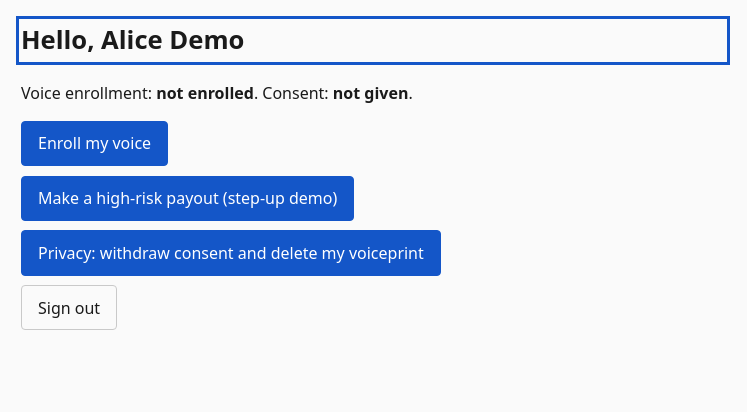
App journey (M4-A1, against in-memory stand-ins) › sends a user with no voiceprint straight to the fallback offer
Click the button "Make a high-risk payout (step-up demo)" at (188, 198), box [21, 176, 354, 221]
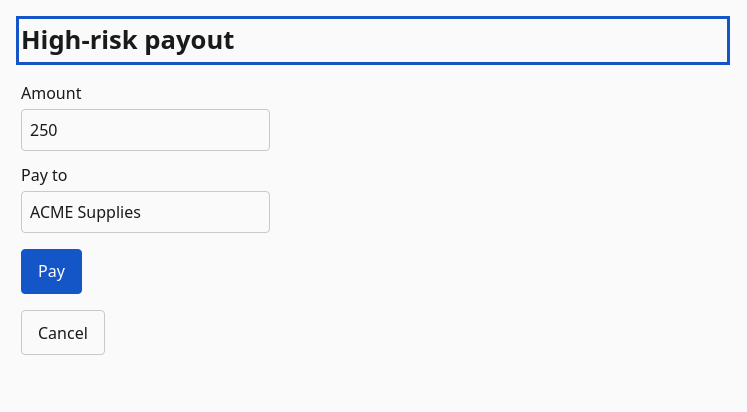
Click the button "Pay" at (51, 272), box [21, 249, 82, 294]
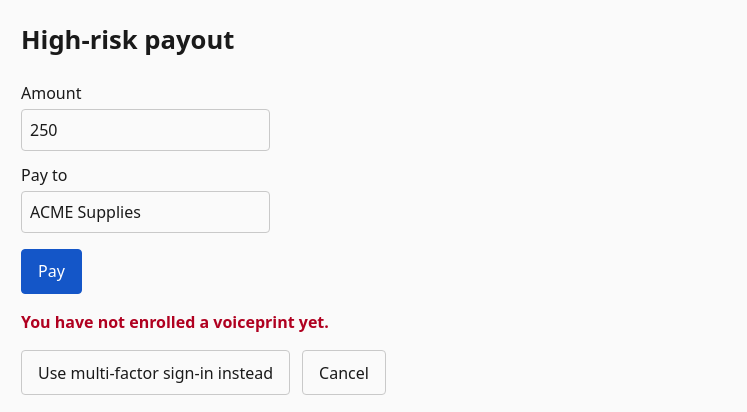
Expected: the message shows "not enrolled", [21, 311, 329, 333]
Expected: the button "Use multi-factor sign-in instead" is shown, [21, 350, 290, 395]
